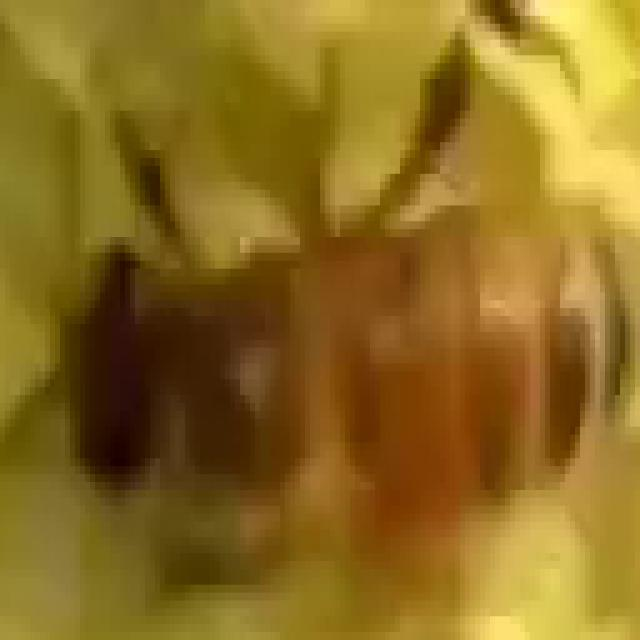honeybee: (61, 156, 630, 537)
